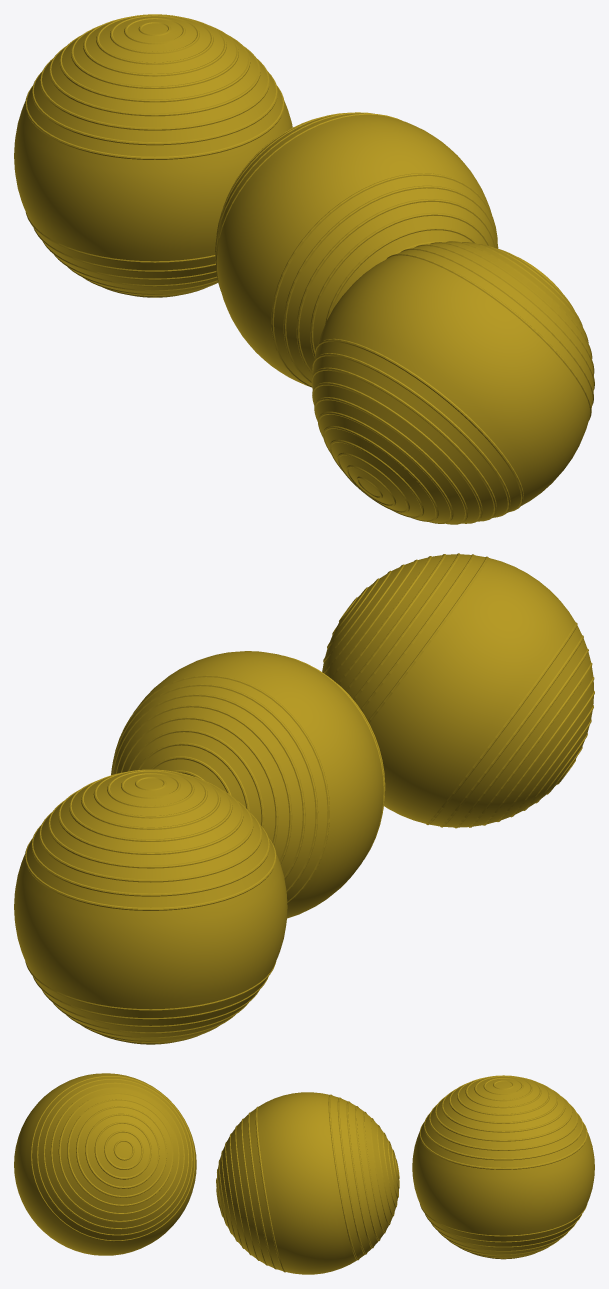
File: BALL AEROBIC.obj
The picture shows the model from 3 angles, top to bottom: view 1: azimuth 30°, elevation 25°; view 2: azimuth 150°, elevation 25°; view 3: azimuth 270°, elevation 25°; orthographic projection. The views are drawn at different scales.
Visible parts, largest first — view 1: Sphere003, Sphere001, Sphere012; view 2: Sphere001, Sphere003, Sphere012; view 3: Sphere001, Sphere012, Sphere003.
Part boxes in pixels (box(x1,y1,x2,y2)): Sphere003: box(311, 241, 594, 524); Sphere001: box(14, 14, 292, 297); Sphere012: box(215, 112, 498, 387); Sphere001: box(14, 769, 287, 1044); Sphere003: box(322, 553, 594, 828); Sphere012: box(111, 651, 385, 918); Sphere001: box(412, 1075, 594, 1259); Sphere012: box(216, 1092, 399, 1274); Sphere003: box(14, 1073, 196, 1255).
Bounding box in the file's own units: 749 × 603 × 1907.
